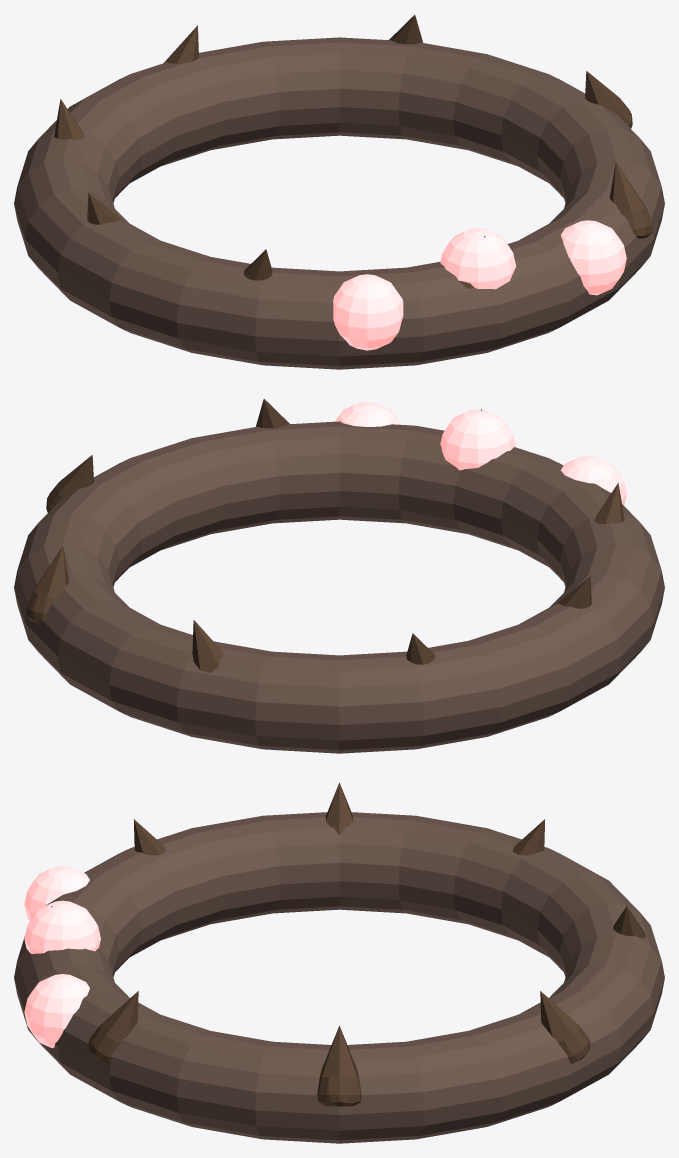
Rendered from thorn_crown.glb.
3 views of the same model, one above another, from view 1: azimuth 30°, elevation 25°; view 2: azimuth 150°, elevation 25°; view 3: azimuth 270°, elevation 25° (orthographic).
Parts seen in each view (by area): view 1: Band, Berry0, Berry2, Berry1, Spike7, Spike0, Spike3, Spike2, Spike4, Spike1, Spike5; view 2: Band, Berry1, Spike1, Berry0, Berry2, Spike0, Spike2, Spike5, Spike4, Spike3, Spike7; view 3: Band, Berry1, Berry2, Spike0, Berry0, Spike7, Spike1, Spike4, Spike3, Spike5, Spike2.
Part boxes in pixels (x1,y1,x2,y2): Band: (14,37,664,369); Berry0: (333,274,403,350); Berry2: (561,220,626,295); Berry1: (440,228,516,289); Spike7: (609,162,653,238); Spike0: (585,71,632,128); Spike3: (54,99,84,139); Spike2: (164,25,198,63); Spike4: (87,192,121,224); Spike1: (389,15,422,44); Spike5: (244,249,272,280); Band: (14,421,664,753); Berry1: (440,409,515,470); Spike1: (25,546,69,622); Berry0: (560,455,626,505); Berry2: (335,401,401,426); Spike0: (46,455,93,512); Spike2: (192,620,223,672); Spike5: (594,483,624,523); Spike4: (557,576,591,608); Spike3: (406,633,434,664); Spike7: (256,399,289,428); Band: (14,812,664,1143); Berry1: (24,900,100,953); Berry2: (24,974,89,1048); Spike0: (317,1025,361,1106); Berry0: (24,866,89,921); Spike7: (88,991,138,1063); Spike1: (540,991,590,1063); Spike4: (325,782,353,834); Spike3: (513,819,545,855); Spike5: (133,819,165,855); Spike2: (613,906,645,937).
Size of the model in its own units: 0.3107 by 0.0609 by 0.3057.
